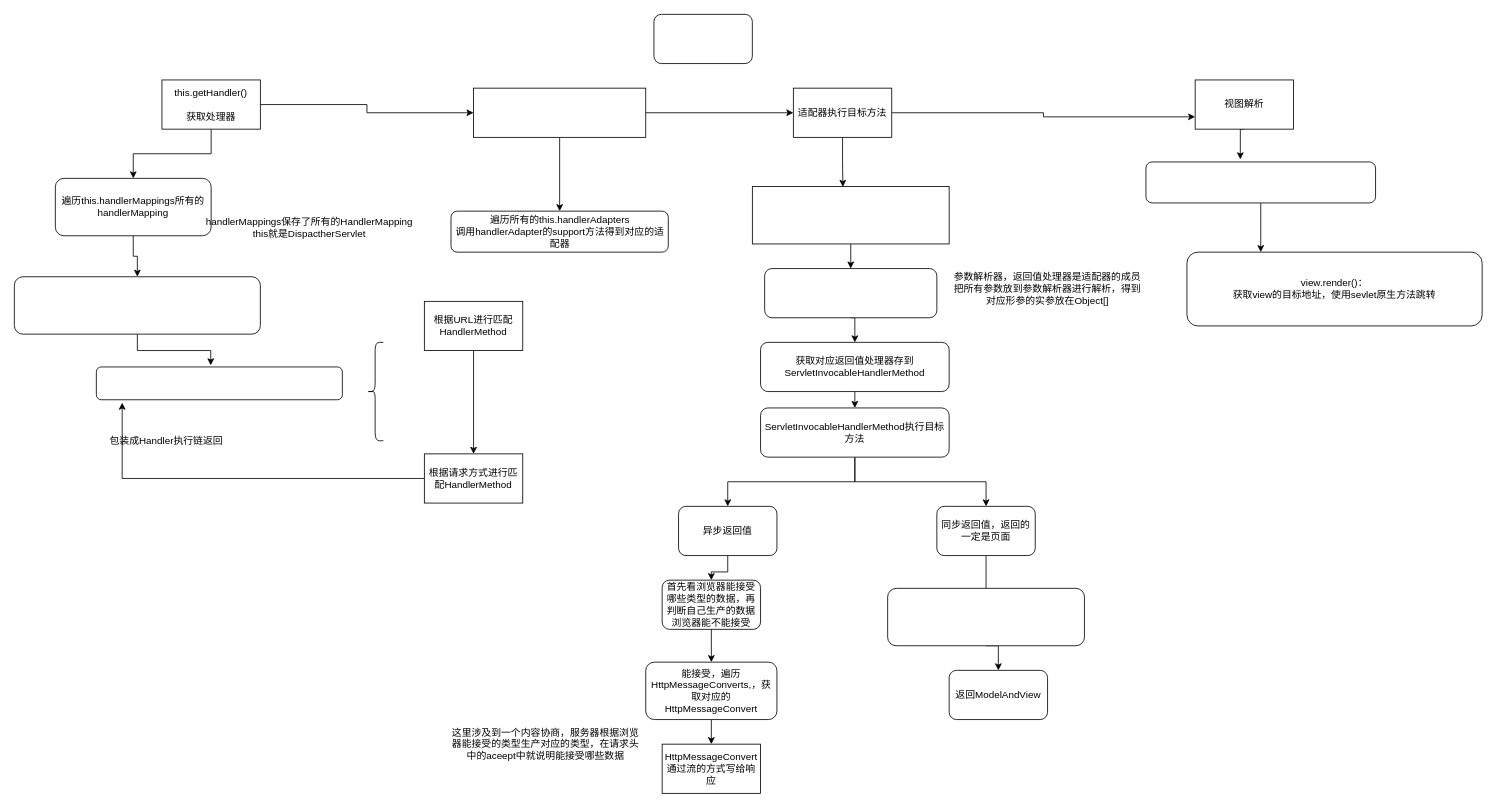
Some shapes in this 1497 by 808 pixel diagram are drawn without their labels. Here are the shapes that lost their labels. From the top down, the box of each, then its label:
(653, 14, 752, 64): 拦截器
(473, 87, 646, 137): this.getHandlerAdapter获取适配器
(1145, 161, 1376, 203): 遍历this.viewResolves，把目标方法的String传进去判断viewResolver能不能解析，直到拿到String对应的view
(752, 186, 949, 244): 定义ServletInvocableHandlerMethod
(14, 276, 260, 334): 调用handlerMapping的getHandeler获取对应的Handler
(764, 268, 937, 318): 获取对应参数解析器存到ServletInvocableHandlerMethod
(96, 366, 342, 400): 获取请求的URL，个根据URl获取对应的HandlerMethod
(887, 588, 1084, 646): 把返回的字符串放到ModelAndViewContrainer的view中 而数据在目标方法中已经放到Model中了
